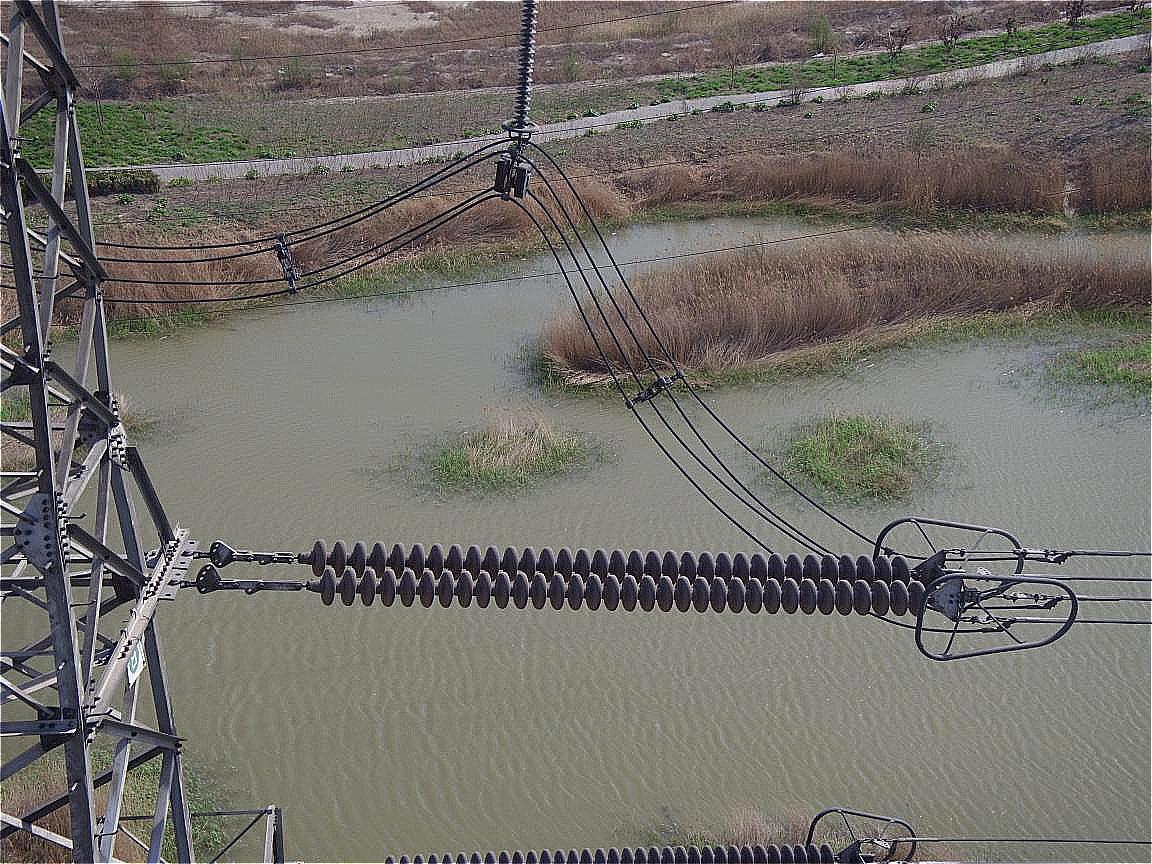insultor1: (307, 539, 931, 617)
